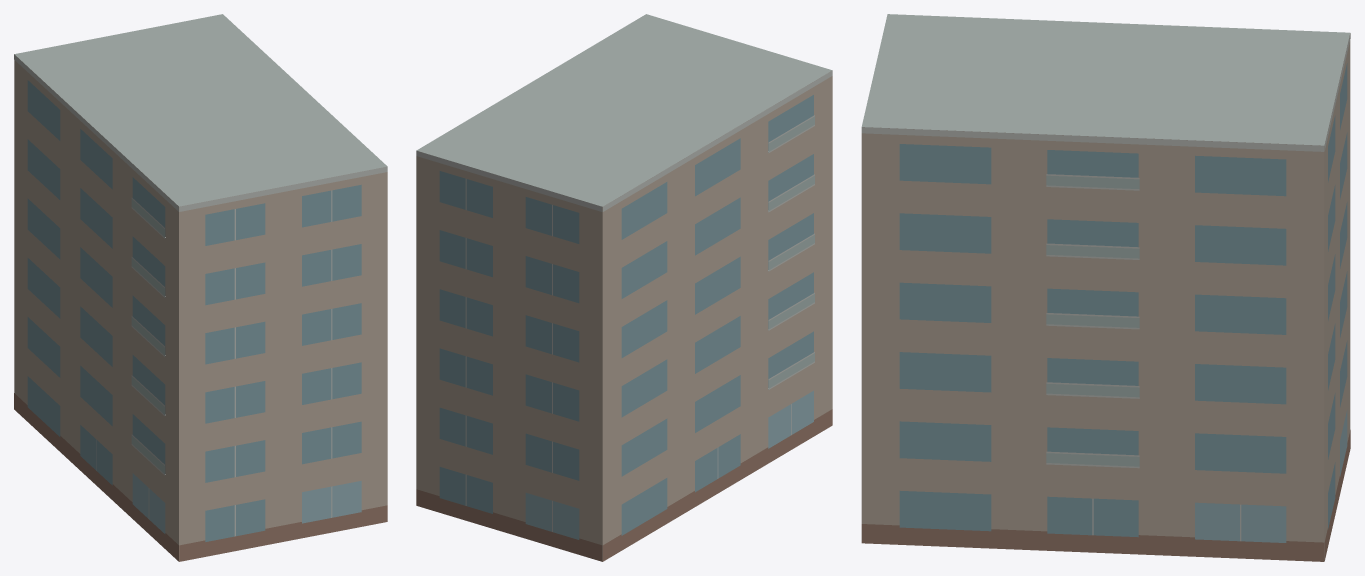
Rendered from survey-upis-32567061.glb.
3 renders of one model, left to right at view 1: azimuth 30°, elevation 25°; view 2: azimuth 150°, elevation 25°; view 3: azimuth 270°, elevation 25°, orthographic. The views are drawn at different scales.
Visible parts, largest first — view 1: survey-upis-32567061.tmp; view 2: survey-upis-32567061.tmp; view 3: survey-upis-32567061.tmp.
Part boxes in pixels (x1,y1,x2,y2): survey-upis-32567061.tmp: (14, 14, 387, 561); survey-upis-32567061.tmp: (416, 14, 832, 561); survey-upis-32567061.tmp: (861, 14, 1350, 561).
Bounding box in the file's own units: 10.86 × 16 × 17.04.
